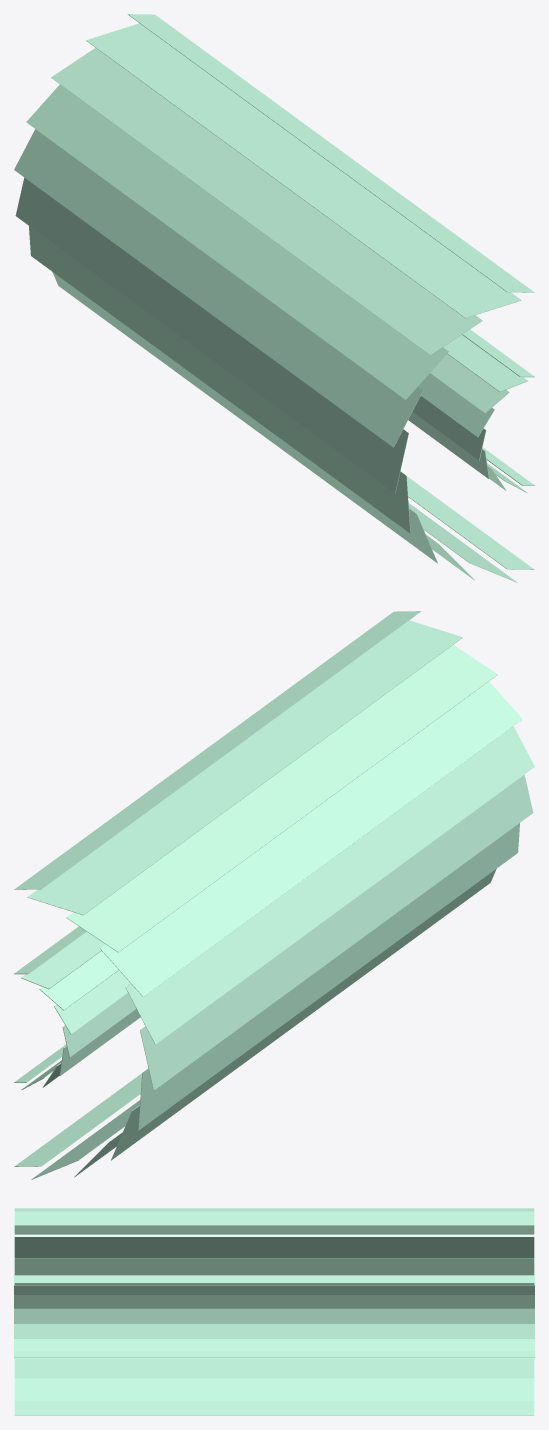
Rendered from ITK-Pixel-Layout-Inner-Barrel-cut2.glb.
3 renders of one model, top to bottom at view 1: azimuth 30°, elevation 25°; view 2: azimuth 150°, elevation 25°; view 3: azimuth 270°, elevation 25°, orthographic. The views are drawn at different scales.
Visible parts, largest first — view 1: ITK_Pixel_Layout_Inner_Barrel Cut 2; view 2: ITK_Pixel_Layout_Inner_Barrel Cut 2; view 3: ITK_Pixel_Layout_Inner_Barrel Cut 2.
Part boxes in pixels (<box>): ITK_Pixel_Layout_Inner_Barrel Cut 2: <box>14,14,534,582</box>; ITK_Pixel_Layout_Inner_Barrel Cut 2: <box>14,611,534,1179</box>; ITK_Pixel_Layout_Inner_Barrel Cut 2: <box>14,1208,534,1415</box>.
Bounding box in the file's own units: 0.1053 × 0.2094 × 0.4918.
